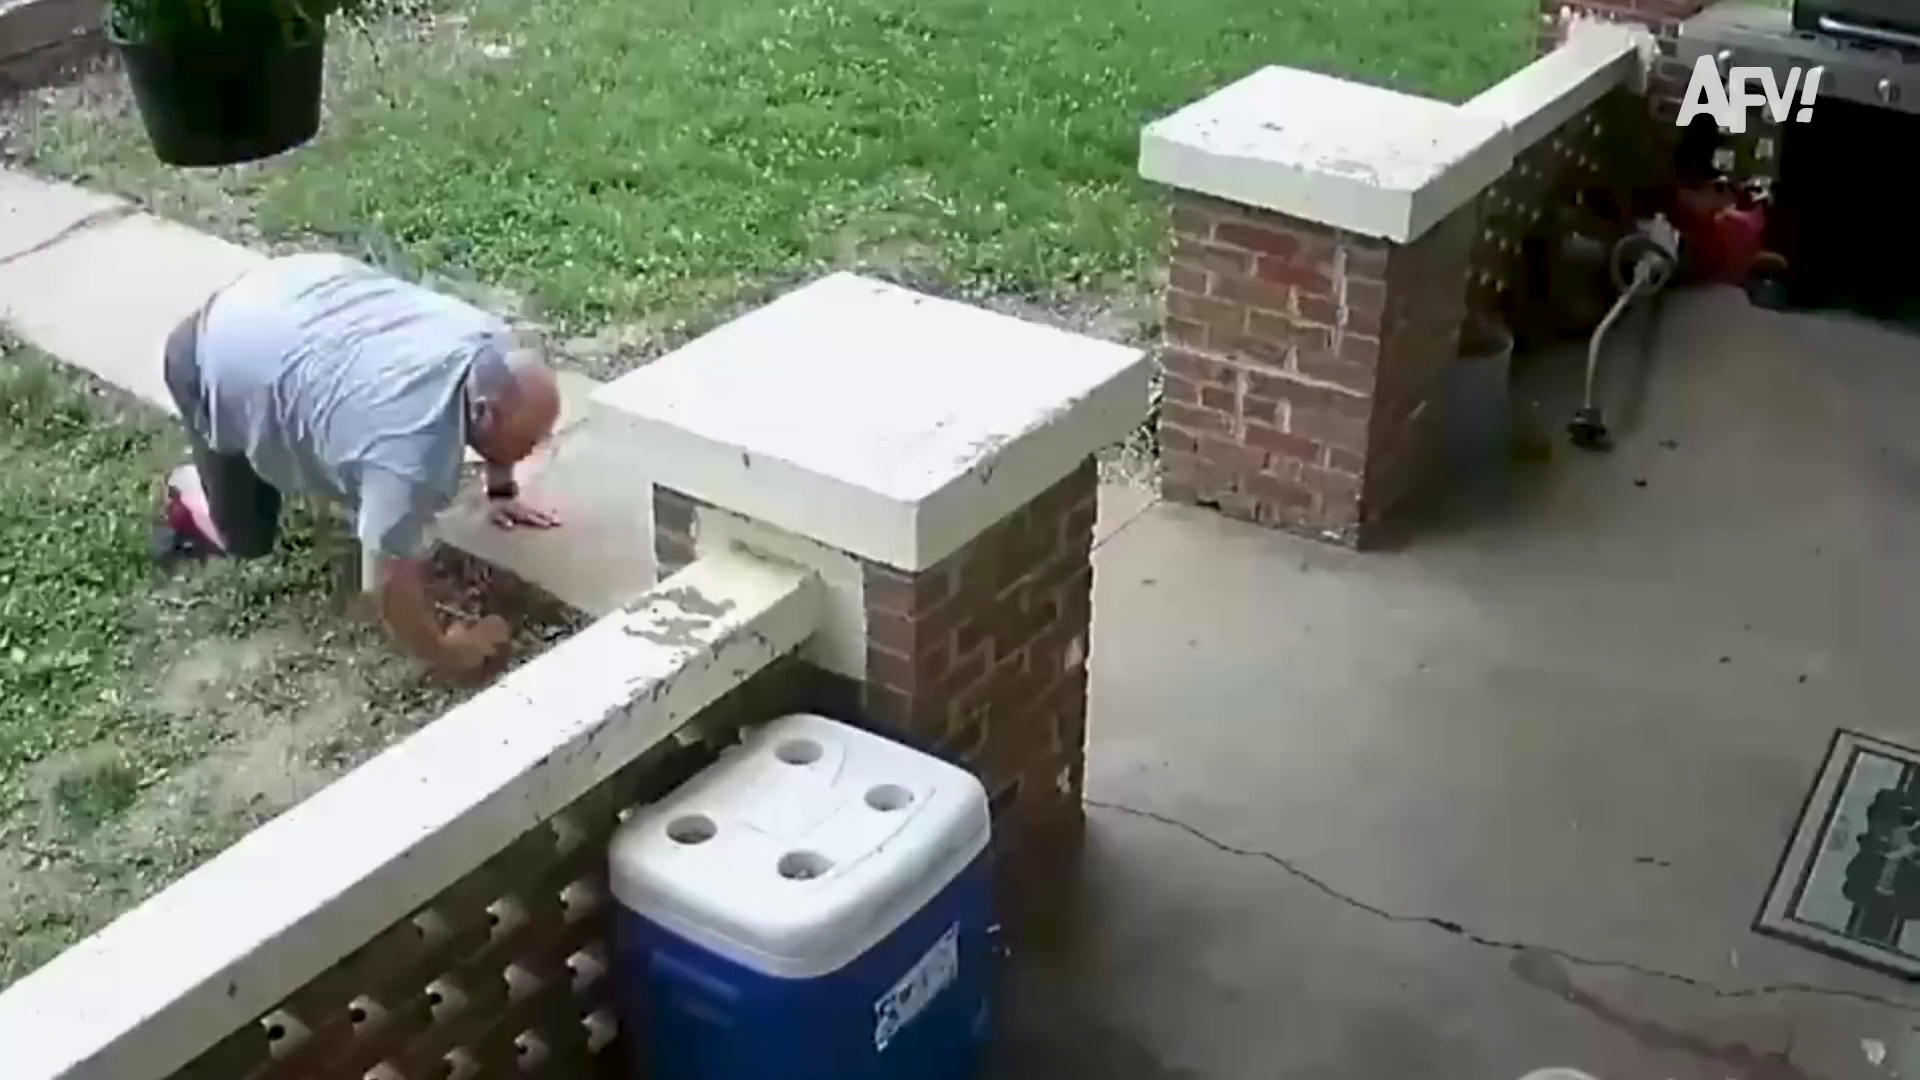fall: (104, 189, 567, 707)
